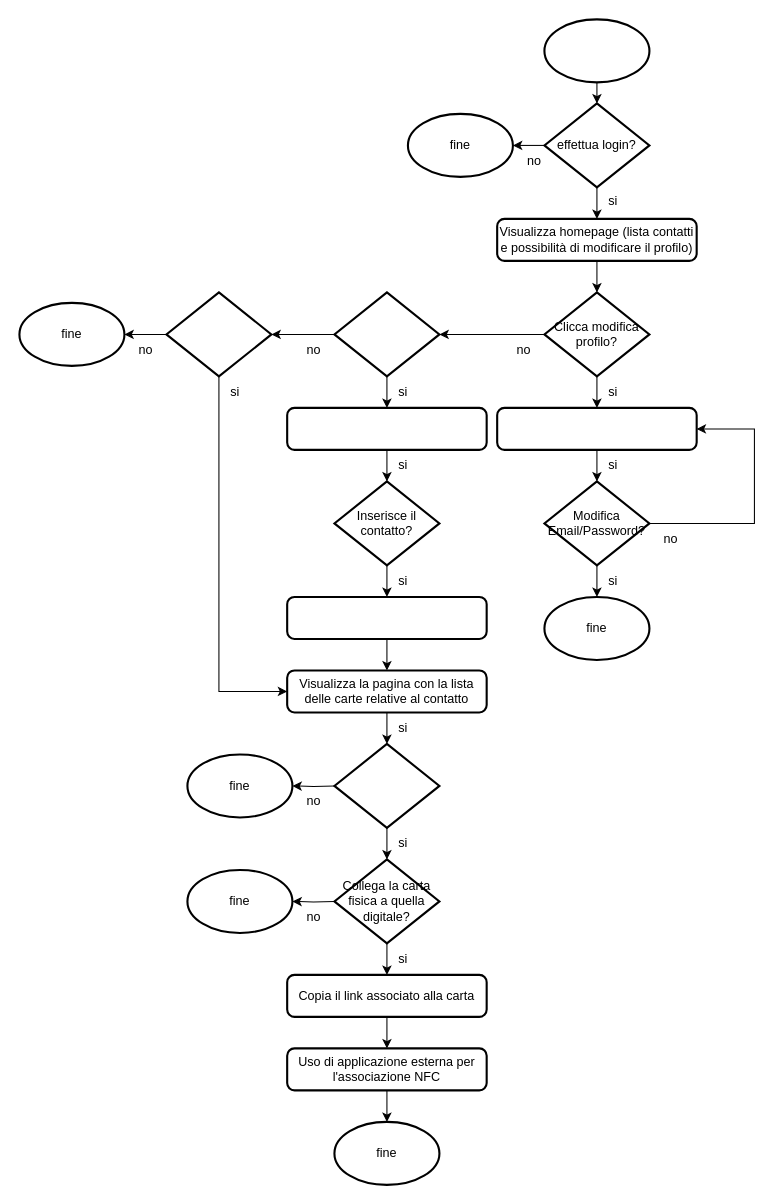
This 781x1203 diagram has some shape labels left out. Each missing label, with the centre of its shape:
"Aggiunge un contatto?" belongs at (386,334).
"Crea una nuova carta fisica?" belongs at (386,785).
"inizio" belongs at (596,50).
"Pagina per l'inserimento dei dati del contatto" belongs at (386,428).
"Vede i dettagli di un contatto?" belongs at (218,334).
"Viene inserita automaticamente una carta digitale" belongs at (386,617).
"Visualizza pagina di modifica profilo" belongs at (596,428).
